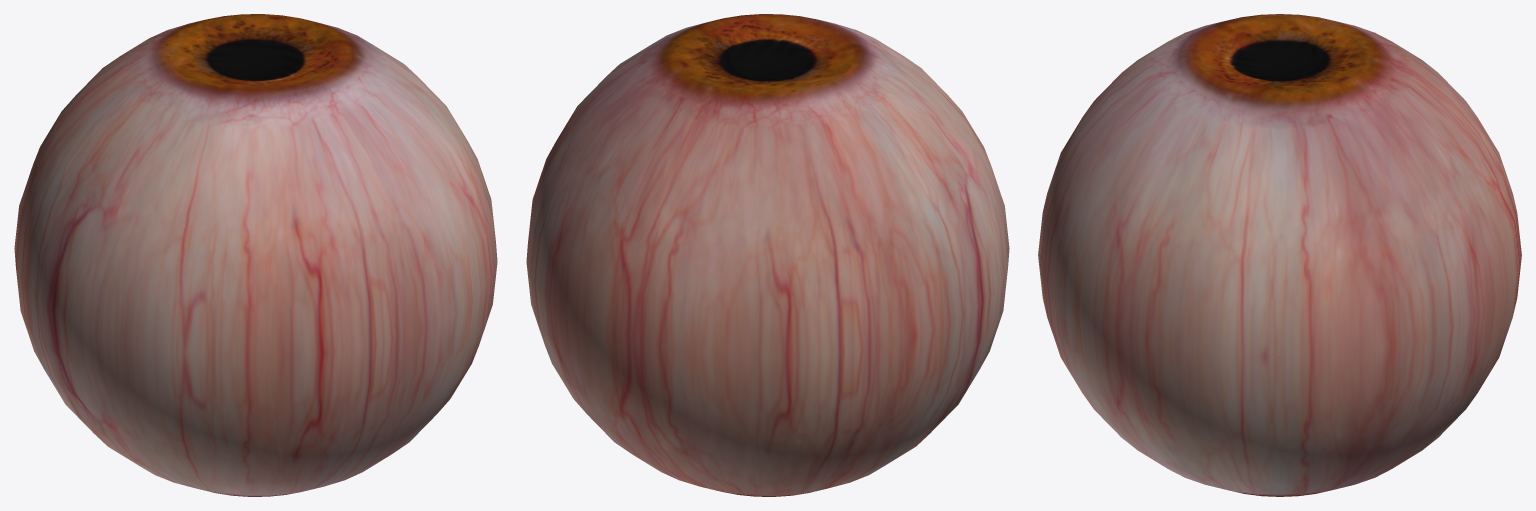
The model's file is eye3 1.fbx.
3 views of the same model, side by side, from view 1: azimuth 30°, elevation 25°; view 2: azimuth 150°, elevation 25°; view 3: azimuth 270°, elevation 25° (orthographic).
Parts seen in each view (by area): view 1: Sphere001; view 2: Sphere001; view 3: Sphere001.
Part boxes in pixels (box(x1,y1,x2,y2)): Sphere001: box(14, 14, 497, 496); Sphere001: box(526, 14, 1009, 496); Sphere001: box(1038, 14, 1521, 496).
Size of the model in its own units: 29.09 by 26.81 by 29.09.
